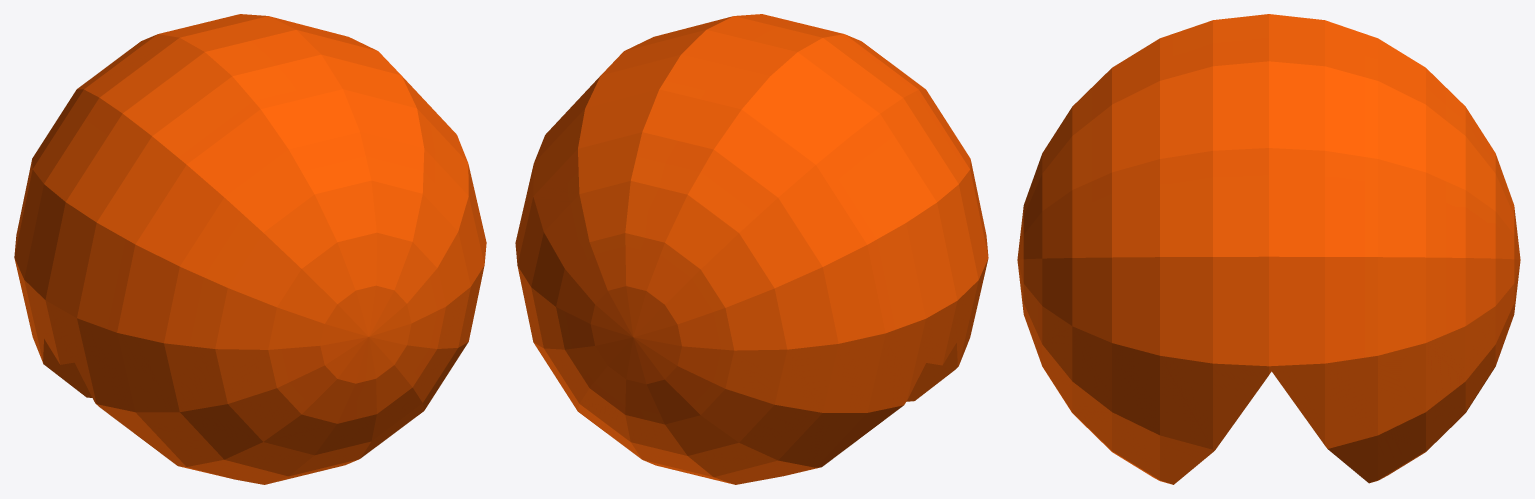
The model's file is hungryballman_wtf.obj.
3 views of the same model, side by side, from view 1: azimuth 30°, elevation 25°; view 2: azimuth 150°, elevation 25°; view 3: azimuth 270°, elevation 25° (orthographic). The views are drawn at different scales.
Parts seen in each view (by area): view 1: group1; view 2: group1; view 3: group1.
Boxes of the visible parts, x1,y1,x2,y2 form: group1: (14, 14, 486, 484); group1: (515, 14, 988, 484); group1: (1017, 14, 1520, 484).
Bounding box in the file's own units: 519 × 477 × 519.
